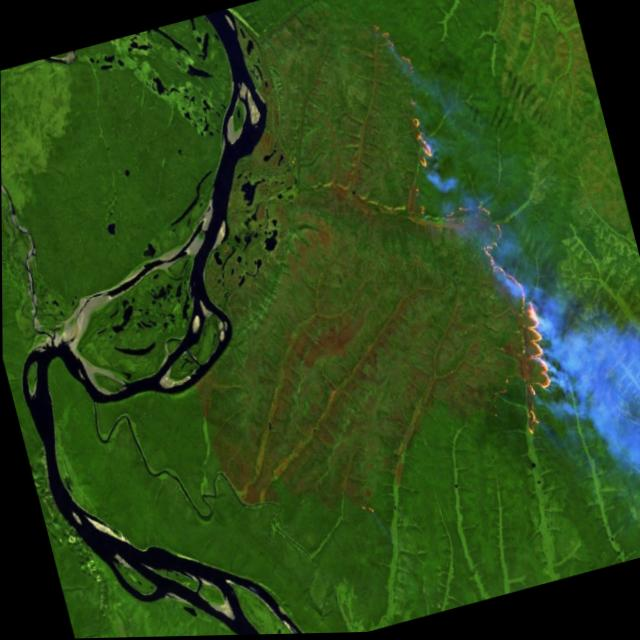fire: (395, 88, 581, 464)
